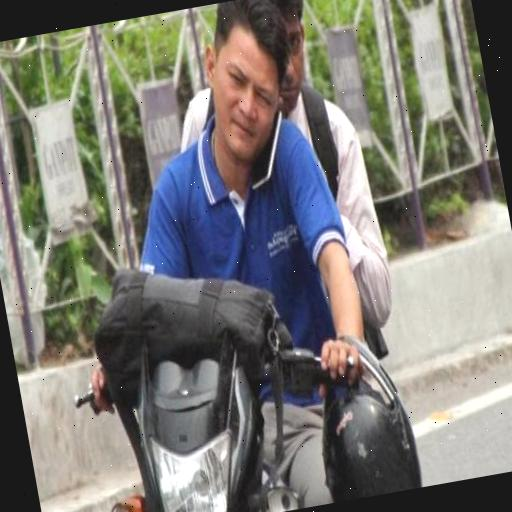no helmet: (115, 0, 306, 235)
